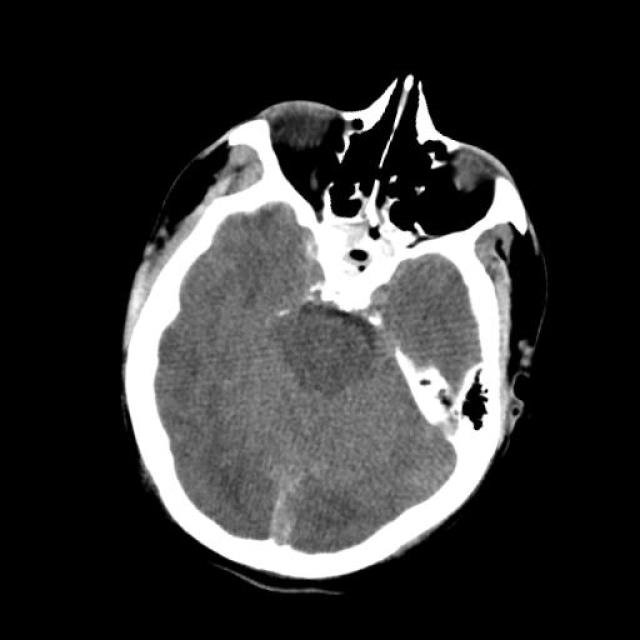Subdural: (222, 448, 337, 578)
